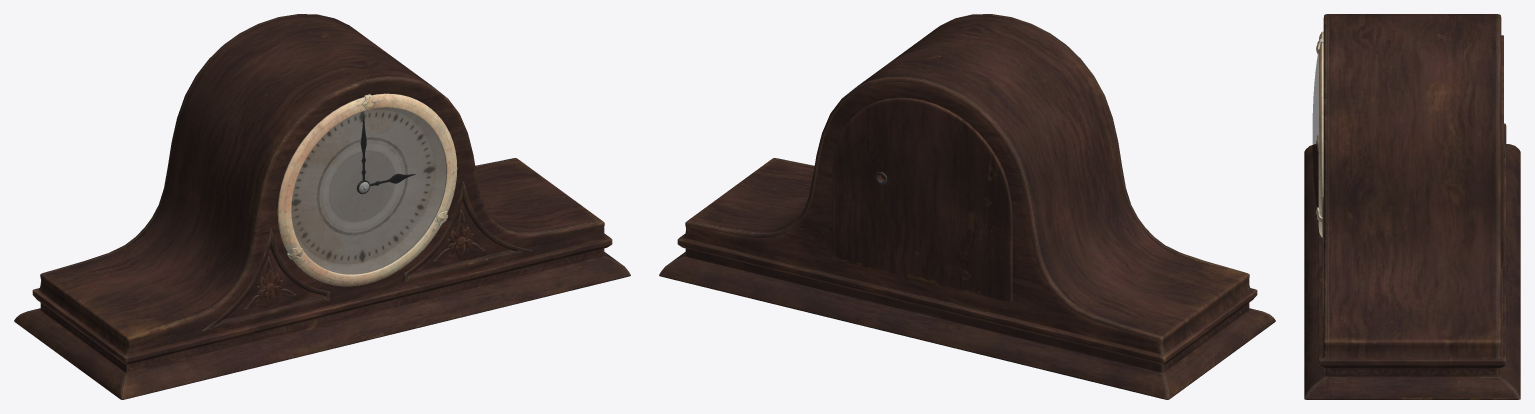
The model's file is mantel_clock_01_1k.glb.
3 views of the same model, side by side, from view 1: azimuth 30°, elevation 25°; view 2: azimuth 150°, elevation 25°; view 3: azimuth 270°, elevation 25° (orthographic).
Parts seen in each view (by area): view 1: mantel_clock_01, mantel_clock_01_glass; view 2: mantel_clock_01; view 3: mantel_clock_01, mantel_clock_01_glass.
Part boxes in pixels (<box>): mantel_clock_01: <box>14,14,630,399</box>; mantel_clock_01_glass: <box>291,108,446,274</box>; mantel_clock_01: <box>659,14,1275,399</box>; mantel_clock_01: <box>1304,14,1520,399</box>; mantel_clock_01_glass: <box>1312,54,1318,207</box>.
Size of the model in its own units: 0.3423 by 0.1605 by 0.1262.
2 materials, 2 textured.
